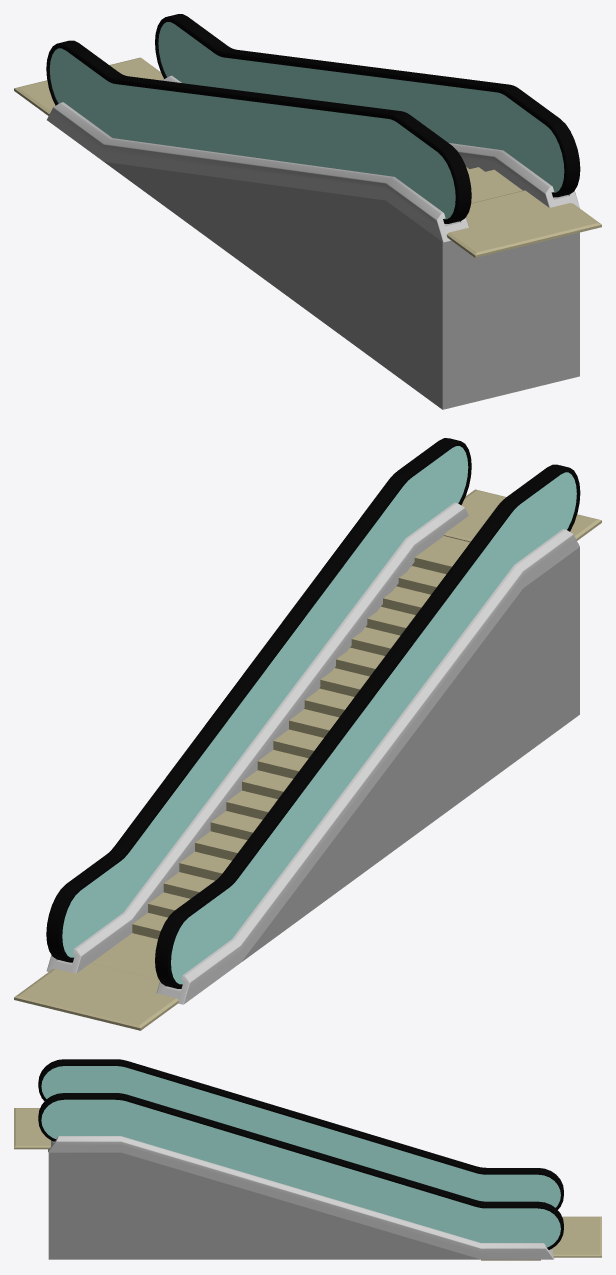
File: Escalator.fbx
3 views of the same model, one above another, from view 1: azimuth 30°, elevation 25°; view 2: azimuth 150°, elevation 25°; view 3: azimuth 270°, elevation 25° (orthographic). The views are drawn at different scales.
Visible parts, largest first — view 1: EscalatorFrame, EscalatorStep_22; view 2: EscalatorFrame, EscalatorStep_6, EscalatorStep_7, EscalatorStep_8, EscalatorStep_9, EscalatorStep_10, EscalatorStep_11, EscalatorStep_12, EscalatorStep_13, EscalatorStep_14, EscalatorStep_15, EscalatorStep_16 (+6 smaller); view 3: EscalatorFrame.
Boxes of the visible parts, x1,y1,x2,y2 form: EscalatorFrame: (14,14,601,409); EscalatorStep_22: (471,181,522,202); EscalatorFrame: (14,438,601,1030); EscalatorStep_6: (179,851,231,880); EscalatorStep_7: (195,831,247,860); EscalatorStep_8: (210,811,262,839); EscalatorStep_9: (226,790,277,819); EscalatorStep_10: (242,770,292,799); EscalatorStep_11: (257,749,308,778); EscalatorStep_12: (273,729,323,758); EscalatorStep_13: (288,709,338,737); EscalatorStep_14: (304,688,354,717); EscalatorStep_15: (319,668,369,696); EscalatorStep_16: (335,647,384,676); EscalatorFrame: (14,1059,601,1259).
Bounding box in the file's own units: 2.53 × 4.68 × 14.71.
